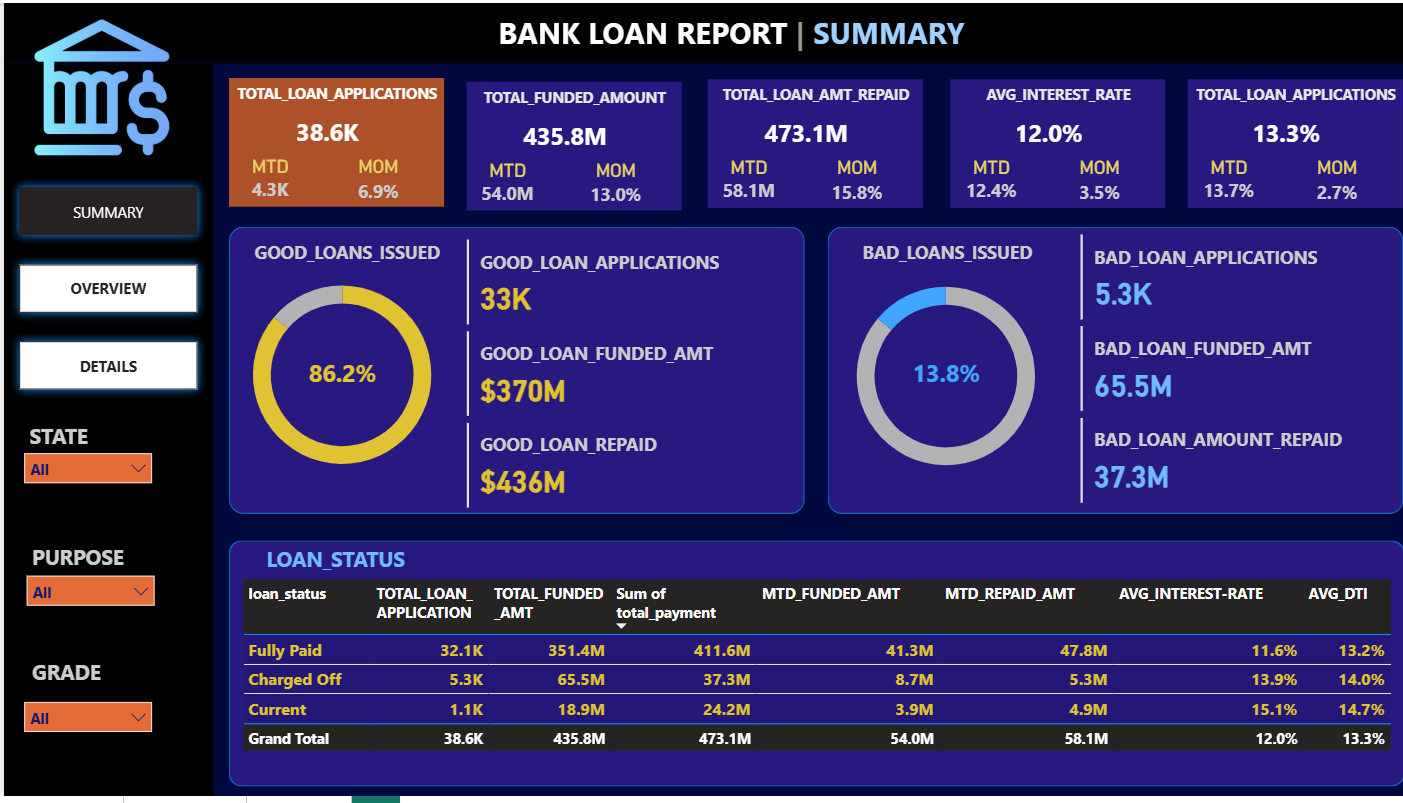

The dashboard page shown, as its layout file describes it:
{"tool":"powerbi","page":{"name":"SUMMARY","canvas":[1280,720],"ordinal":0},"visuals":[{"type":"shape","box":[0,55.5,190,664.7],"z":0},{"type":"shape","box":[203.9,67.6,195.4,117],"z":0,"group":"g1"},{"type":"shape","box":[639.1,68.8,195.4,117],"z":0,"group":"g5"},{"type":"shape","box":[859,68.8,195.4,117],"z":0,"group":"g3"},{"type":"shape","box":[1073.7,69,195.4,117],"z":0,"group":"g4"},{"type":"shape","box":[419.8,71.2,195.4,117],"z":0,"group":"g2"},{"type":"shape","box":[0,0,1280,55],"z":1000},{"type":"card","fields":{"Values":["Bank_Loan_DB.TOTAL_LOAN_APPLICATION"]},"box":[241.3,96.6,103.8,42.2],"z":1000,"group":"g1"},{"type":"card","fields":{"Values":["Bank_Loan_DB.TOTAL-REPAID_LOAN-AMT"]},"box":[676.5,97.8,103.8,42.2],"z":1000,"group":"g5"},{"type":"card","fields":{"Values":["Bank_Loan_DB.AVG_INTEREST-RATE"]},"box":[896.4,97.8,103.8,42.2],"z":1000,"group":"g3"},{"type":"card","fields":{"Values":["Bank_Loan_DB.AVERAGE_DTI_PERCENTAGE"]},"box":[1111.1,98,103.8,42.2],"z":1000,"group":"g4"},{"type":"card","fields":{"Values":["Bank_Loan_DB.TOTAL_FUNDED_AMOUNT"]},"box":[457.2,100.2,103.8,42.2],"z":1000,"group":"g2"},{"type":"textbox","box":[431.9,3.6,463.3,48.3],"z":2000},{"type":"textbox","box":[205.1,67.6,194.2,35],"z":2000,"group":"g1"},{"type":"textbox","box":[640.3,68.8,194.2,35],"z":2000,"group":"g5"},{"type":"textbox","box":[860.2,68.8,194.2,35],"z":2000,"group":"g3"},{"type":"textbox","box":[1074.9,69,194.2,35],"z":2000,"group":"g4"},{"type":"textbox","box":[421,71.2,194.2,35],"z":2000,"group":"g2"},{"type":"group","id":"g1","title":"Group 1","box":[203.9,67.6,195.4,117],"z":3000},{"type":"card","title":"MTD","fields":{"Values":["Bank_Loan_DB.MTD_LOAN_APPLICATIONS"]},"box":[205.1,137.6,72.4,47.1],"z":3000,"group":"g1"},{"type":"card","title":"MTD","fields":{"Values":["Bank_Loan_DB.MTD_REPAID_AMOUNT"]},"box":[640.3,138.8,72.4,47.1],"z":3000,"group":"g5"},{"type":"card","title":"MTD","fields":{"Values":["Bank_Loan_DB.MTD_AVG_INTEREST"]},"box":[860.2,138.8,72.4,47.1],"z":3000,"group":"g3"},{"type":"card","title":"MTD","fields":{"Values":["Bank_Loan_DB.MTD_AVG_DTI"]},"box":[1074.9,139,72.4,47.1],"z":3000,"group":"g4"},{"type":"card","title":"MTD","fields":{"Values":["Bank_Loan_DB.MTD_FUNDED_AMOUNT"]},"box":[421,141.2,72.4,47.1],"z":3000,"group":"g2"},{"type":"group","id":"g2","title":"Group 1","box":[419.8,71.2,195.4,117],"z":4000},{"type":"card","title":"MOM","fields":{"Values":["Bank_Loan_DB.MOM_TOTAL_APPLICATION"]},"box":[302.8,137.6,73.6,44.6],"z":4000,"group":"g1"},{"type":"card","title":"MOM","fields":{"Values":["Bank_Loan_DB.MOM_REPAID_AMOUNT"]},"box":[738,138.8,73.6,44.6],"z":4000,"group":"g5"},{"type":"card","title":"MOM","fields":{"Values":["Bank_Loan_DB.MOM_AVG_INTEREST"]},"box":[957.9,138.8,73.6,44.6],"z":4000,"group":"g3"},{"type":"card","title":"MOM","fields":{"Values":["Bank_Loan_DB.MOM_AVG_DTI"]},"box":[1172.6,139,73.6,44.6],"z":4000,"group":"g4"},{"type":"card","title":"MOM","fields":{"Values":["Bank_Loan_DB.MOM_FUNDED_AMOUNT"]},"box":[518.7,141.2,73.6,44.6],"z":4000,"group":"g2"},{"type":"group","id":"g3","title":"Group 1","box":[859,68.8,195.4,117],"z":5000},{"type":"group","id":"g4","title":"Group 1","box":[1073.7,69,195.4,117],"z":6000},{"type":"shape","box":[203.9,202.7,522.4,260.6],"z":7000},{"type":"group","id":"g5","title":"Group 1","box":[639.1,68.8,195.4,117],"z":8000},{"type":"shape","box":[746.8,202.7,522.4,260.6],"z":9000,"group":"g6"},{"type":"donutChart","fields":{"Category":["Bank_Loan_DB.GOOD_LOAN V BAD_LOAN"],"Y":["Bank_Loan_DB.TOTAL_LOAN_APPLICATION"]},"box":[189.4,231.6,235.3,212.3],"z":9000},{"type":"card","fields":{"Values":["Bank_Loan_DB.GOOD_LOAN_PERCENTAGE"]},"box":[254.6,305.2,106.2,65.1],"z":10000},{"type":"textbox","box":[214.7,209.9,194.2,35],"z":11000},{"type":"cardVisual","fields":{"Data":["Bank_Loan_DB.GOOD_LOAN_APPLICATIONS","Bank_Loan_DB.GOOD_LOAN_FUNDED_AMT","Bank_Loan_DB.GOOD_LOAN_AMOUNT_REPAID"]},"box":[415,209.9,298,255.8],"z":12000},{"type":"shape","box":[203.9,487.4,1066.5,223.2],"z":13000},{"type":"donutChart","fields":{"Category":["Bank_Loan_DB.GOOD_LOAN V BAD_LOAN"],"Y":["Bank_Loan_DB.TOTAL_LOAN_APPLICATION"]},"box":[737.1,231.7,235.3,212.3],"z":14000,"group":"g6"},{"type":"tableEx","fields":{"Values":["Bank_Loan_DB.loan_status","Bank_Loan_DB.TOTAL_LOAN_APPLICATION","Bank_Loan_DB.TOTAL_FUNDED_AMOUNT","Sum(Bank_Loan_DB.total_payment)","Bank_Loan_DB.MTD_FUNDED_AMOUNT","Bank_Loan_DB.MTD_REPAID_AMOUNT","Bank_Loan_DB.AVG_INTEREST-RATE","Bank_Loan_DB.AVERAGE_DTI_PERCENTAGE"]},"box":[211.1,518.8,1054.4,179.8],"z":14000},{"type":"textbox","box":[758.8,209.9,194.2,35],"z":15000,"group":"g6"},{"type":"textbox","box":[204.5,487.1,193.5,35.7],"z":15000},{"type":"card","fields":{"Values":["Bank_Loan_DB.BAD_LOAN_PERCENTAGE"]},"box":[802.2,305.2,106.2,65.1],"z":16000,"group":"g6"},{"type":"slicer","fields":{"Values":["Bank_Loan_DB.address_state"]},"box":[8.4,398.1,136.3,54.3],"z":16000},{"type":"cardVisual","fields":{"Data":["Bank_Loan_DB.BAD_LOAN_APPLICATIONS","Bank_Loan_DB.BAD_LOAN_FUNDED_AMT","Bank_Loan_DB.BAD_LOAN_AMOUNT_REPAID"]},"box":[972.4,205.1,298,255.8],"z":17000,"group":"g6"},{"type":"textbox","box":[18.1,375.2,112.2,35],"z":17000},{"type":"slicer","fields":{"Values":["Bank_Loan_DB.grade"]},"box":[8.4,623.7,136.3,54.3],"z":18000},{"type":"textbox","box":[20.5,589.9,112.2,35],"z":19000},{"type":"slicer","fields":{"Values":["Bank_Loan_DB.purpose"]},"box":[9.7,509.1,136.3,54.3],"z":20000},{"type":"textbox","box":[20.5,485,112.2,35],"z":21000},{"type":"image","box":[20.5,9.7,136.3,132.7],"z":22000},{"type":"pageNavigator","box":[6,159.3,178.6,202.7],"z":23000},{"type":"group","id":"g6","title":"Group 2","box":[737.1,202.7,533.2,260.6],"z":24000}]}

Visuals, with their boxes in screenshot pixels (x1, y1, x2, y2), scaled from the page's 1280x720 canvas onto the 1403x803 screenshot:
shape: (left=0, top=62, right=208, bottom=802)
shape: (left=223, top=75, right=438, bottom=206)
shape: (left=701, top=77, right=915, bottom=207)
shape: (left=942, top=77, right=1156, bottom=207)
shape: (left=1177, top=77, right=1391, bottom=207)
shape: (left=460, top=79, right=674, bottom=210)
shape: (left=0, top=0, right=1402, bottom=61)
card - Bank_Loan_DB.TOTAL_LOAN_APPLICATION: (left=264, top=108, right=378, bottom=155)
card - Bank_Loan_DB.TOTAL-REPAID_LOAN-AMT: (left=742, top=109, right=855, bottom=156)
card - Bank_Loan_DB.AVG_INTEREST-RATE: (left=983, top=109, right=1096, bottom=156)
card - Bank_Loan_DB.AVERAGE_DTI_PERCENTAGE: (left=1218, top=109, right=1332, bottom=156)
card - Bank_Loan_DB.TOTAL_FUNDED_AMOUNT: (left=501, top=112, right=615, bottom=159)
textbox: (left=473, top=4, right=981, bottom=58)
textbox: (left=225, top=75, right=438, bottom=114)
textbox: (left=702, top=77, right=915, bottom=116)
textbox: (left=943, top=77, right=1156, bottom=116)
textbox: (left=1178, top=77, right=1391, bottom=116)
textbox: (left=461, top=79, right=674, bottom=118)
"Group 1" group: (left=223, top=75, right=438, bottom=206)
"MTD" card: (left=225, top=153, right=304, bottom=206)
"MTD" card: (left=702, top=155, right=781, bottom=207)
"MTD" card: (left=943, top=155, right=1022, bottom=207)
"MTD" card: (left=1178, top=155, right=1258, bottom=208)
"MTD" card: (left=461, top=157, right=541, bottom=210)
"Group 1" group: (left=460, top=79, right=674, bottom=210)
"MOM" card: (left=332, top=153, right=413, bottom=203)
"MOM" card: (left=809, top=155, right=890, bottom=205)
"MOM" card: (left=1050, top=155, right=1131, bottom=205)
"MOM" card: (left=1285, top=155, right=1366, bottom=205)
"MOM" card: (left=569, top=157, right=649, bottom=207)
"Group 1" group: (left=942, top=77, right=1156, bottom=207)
"Group 1" group: (left=1177, top=77, right=1391, bottom=207)
shape: (left=223, top=226, right=796, bottom=517)
"Group 1" group: (left=701, top=77, right=915, bottom=207)
shape: (left=819, top=226, right=1391, bottom=517)
donutChart - Bank_Loan_DB.GOOD_LOAN V BAD_LOAN x Bank_Loan_DB.TOTAL_LOAN_APPLICATION: (left=208, top=258, right=466, bottom=495)
card - Bank_Loan_DB.GOOD_LOAN_PERCENTAGE: (left=279, top=340, right=395, bottom=413)
textbox: (left=235, top=234, right=448, bottom=273)
cardVisual - Bank_Loan_DB.GOOD_LOAN_APPLICATIONS x Bank_Loan_DB.GOOD_LOAN_FUNDED_AMT: (left=455, top=234, right=782, bottom=519)
shape: (left=223, top=544, right=1392, bottom=793)
donutChart - Bank_Loan_DB.GOOD_LOAN V BAD_LOAN x Bank_Loan_DB.TOTAL_LOAN_APPLICATION: (left=808, top=258, right=1066, bottom=495)
tableEx - Bank_Loan_DB.loan_status x Bank_Loan_DB.TOTAL_LOAN_APPLICATION: (left=231, top=579, right=1387, bottom=779)
textbox: (left=832, top=234, right=1045, bottom=273)
textbox: (left=224, top=543, right=436, bottom=583)
card - Bank_Loan_DB.BAD_LOAN_PERCENTAGE: (left=879, top=340, right=996, bottom=413)
slicer - Bank_Loan_DB.address_state: (left=9, top=444, right=159, bottom=505)
cardVisual - Bank_Loan_DB.BAD_LOAN_APPLICATIONS x Bank_Loan_DB.BAD_LOAN_FUNDED_AMT: (left=1066, top=229, right=1392, bottom=514)
textbox: (left=20, top=418, right=143, bottom=457)
slicer - Bank_Loan_DB.grade: (left=9, top=696, right=159, bottom=756)
textbox: (left=22, top=658, right=145, bottom=697)
slicer - Bank_Loan_DB.purpose: (left=11, top=568, right=160, bottom=628)
textbox: (left=22, top=541, right=145, bottom=580)
image: (left=22, top=11, right=172, bottom=159)
pageNavigator: (left=7, top=178, right=202, bottom=404)
"Group 2" group: (left=808, top=226, right=1392, bottom=517)
